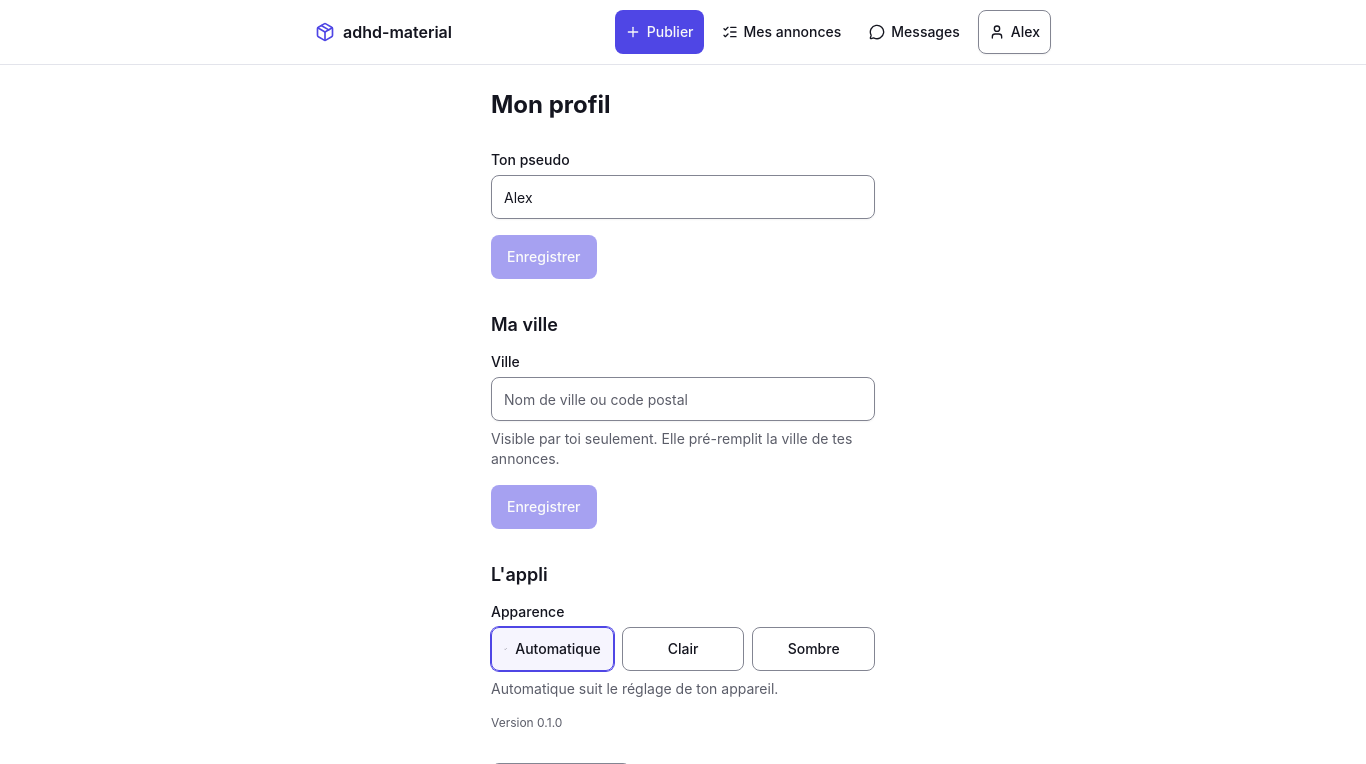
section « Ma ville » du profil › affiche l'erreur serveur sans toast
Type "Alb" into the dropdown labelled "Ville" at (683, 399), box 491,377 -> 875,421
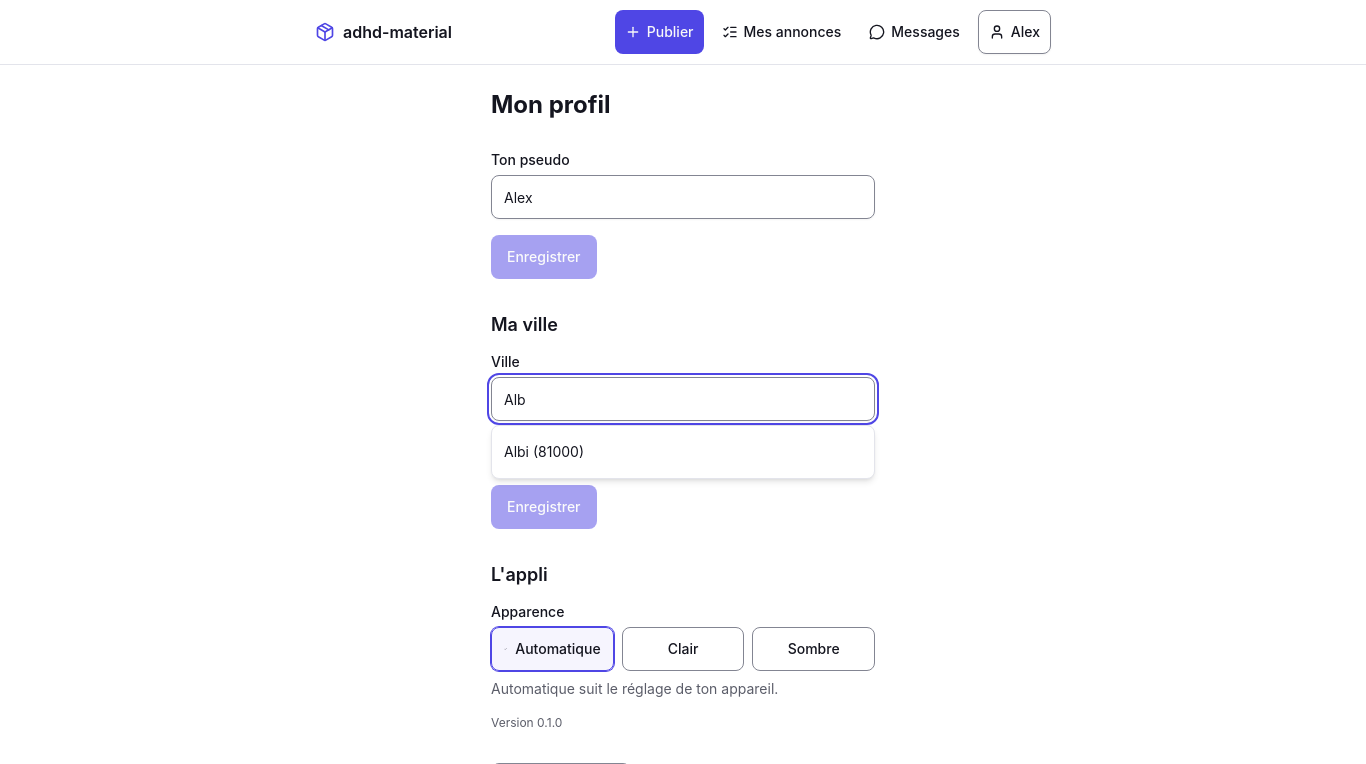
Click the option "Albi (81000)" at (544, 452), box 504,443 -> 584,460
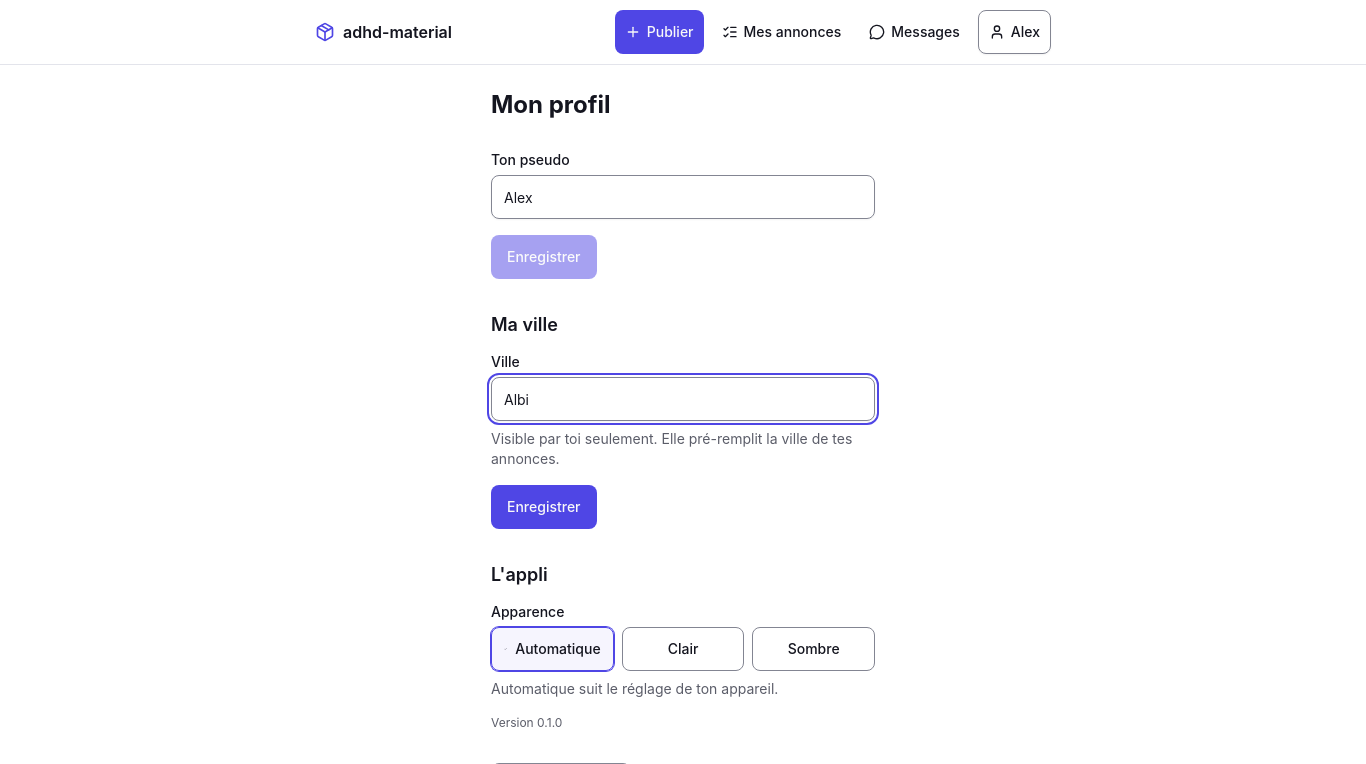
Click the button "Enregistrer" below "Ma ville" at (544, 507), box 491,485 -> 596,529
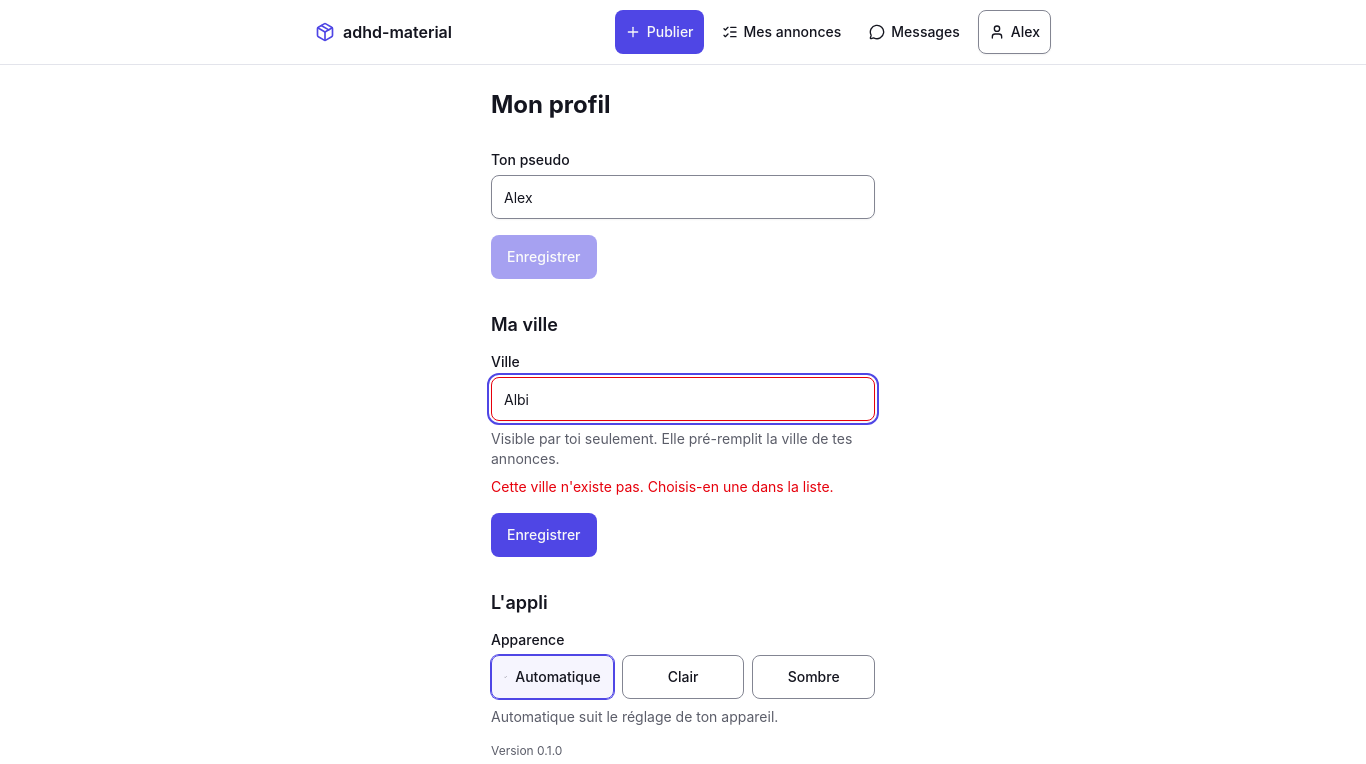
Result: the message shows "Cette ville n'existe pas" at 491,478 -> 834,495
